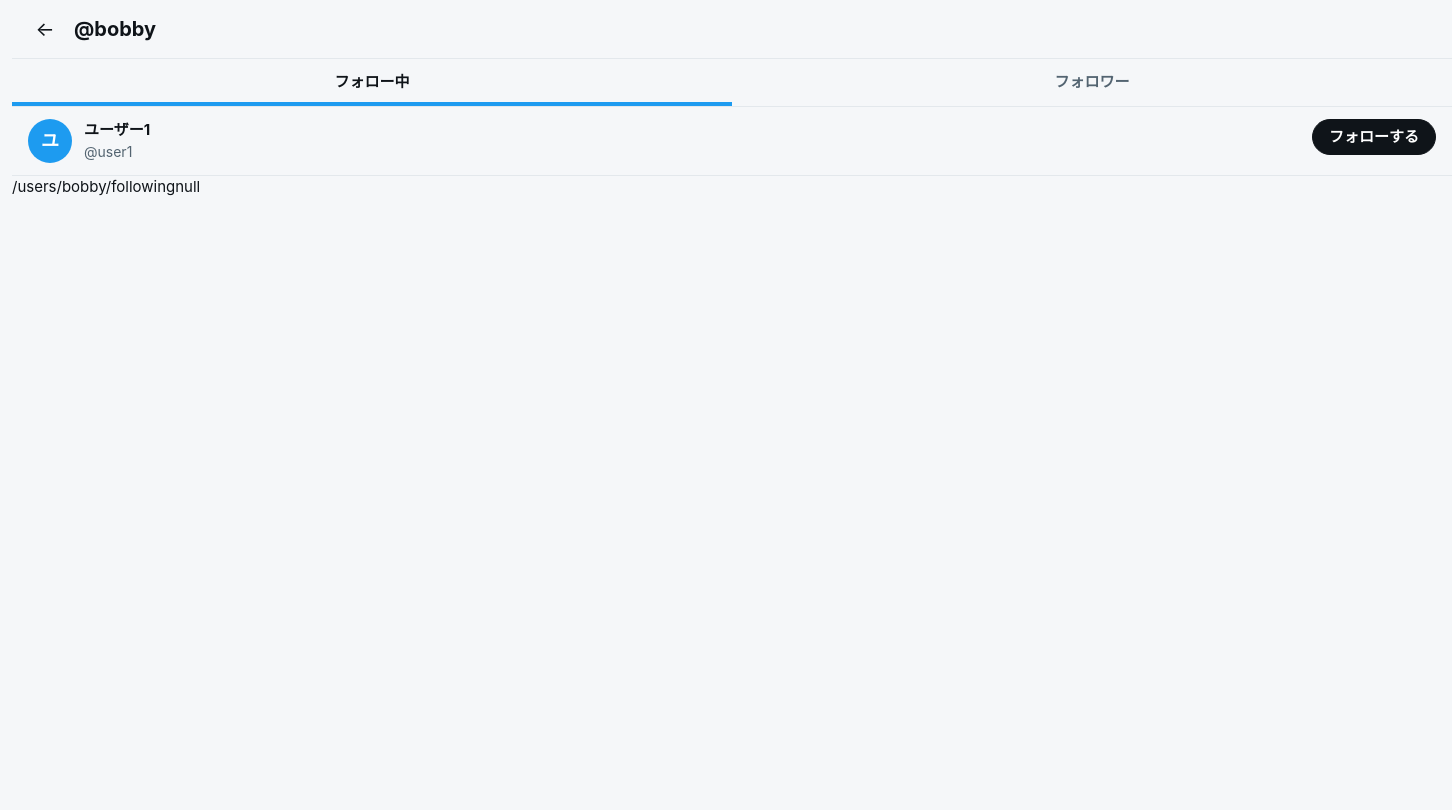
FollowListPage：無限スクロール・フォロー › フォローに失敗したら、エラーを知らせる
Click the button "フォローする" at (1374, 137), box [1312,118,1436,155]
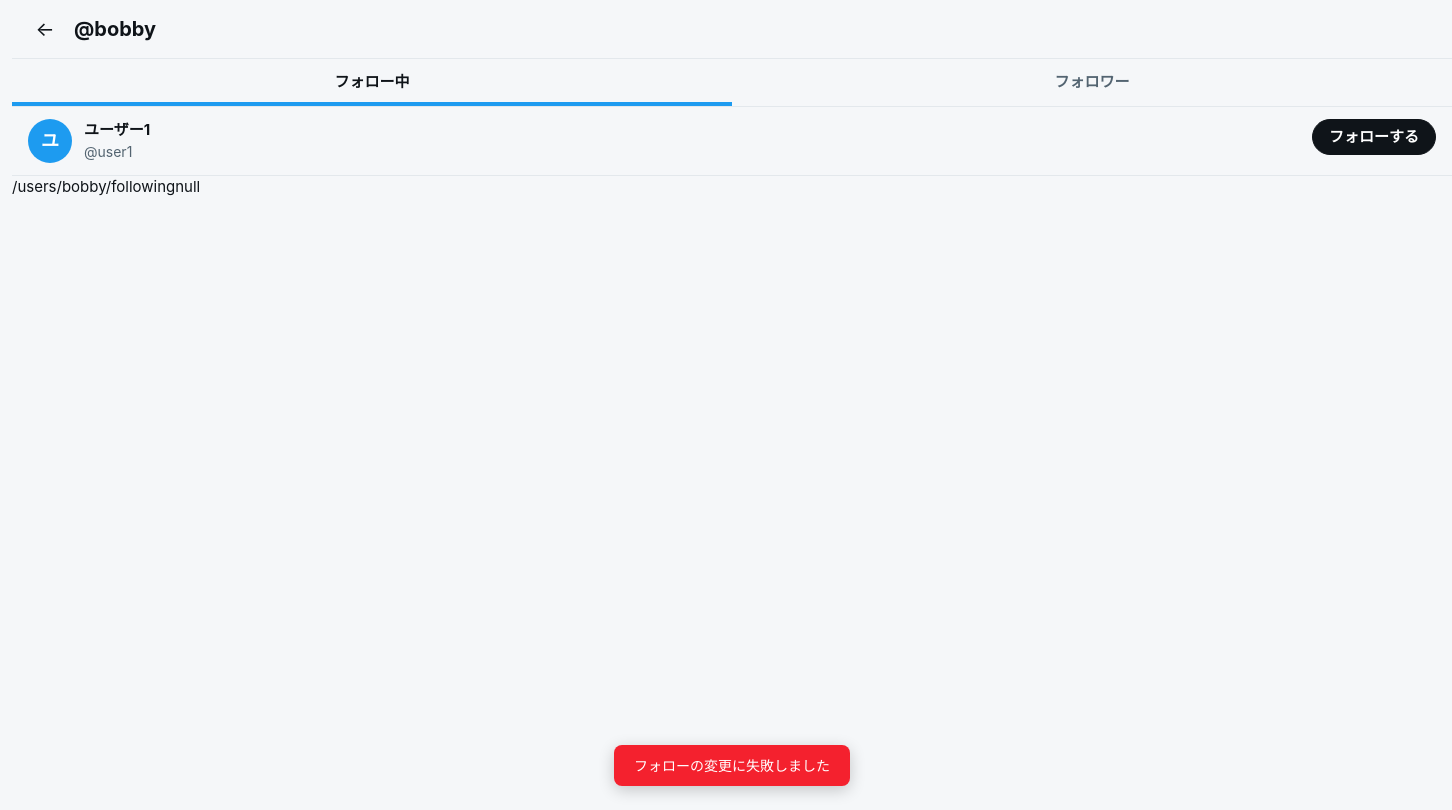
Check: the text "フォローの変更に失敗しました" is shown, box [614,745,850,786]
